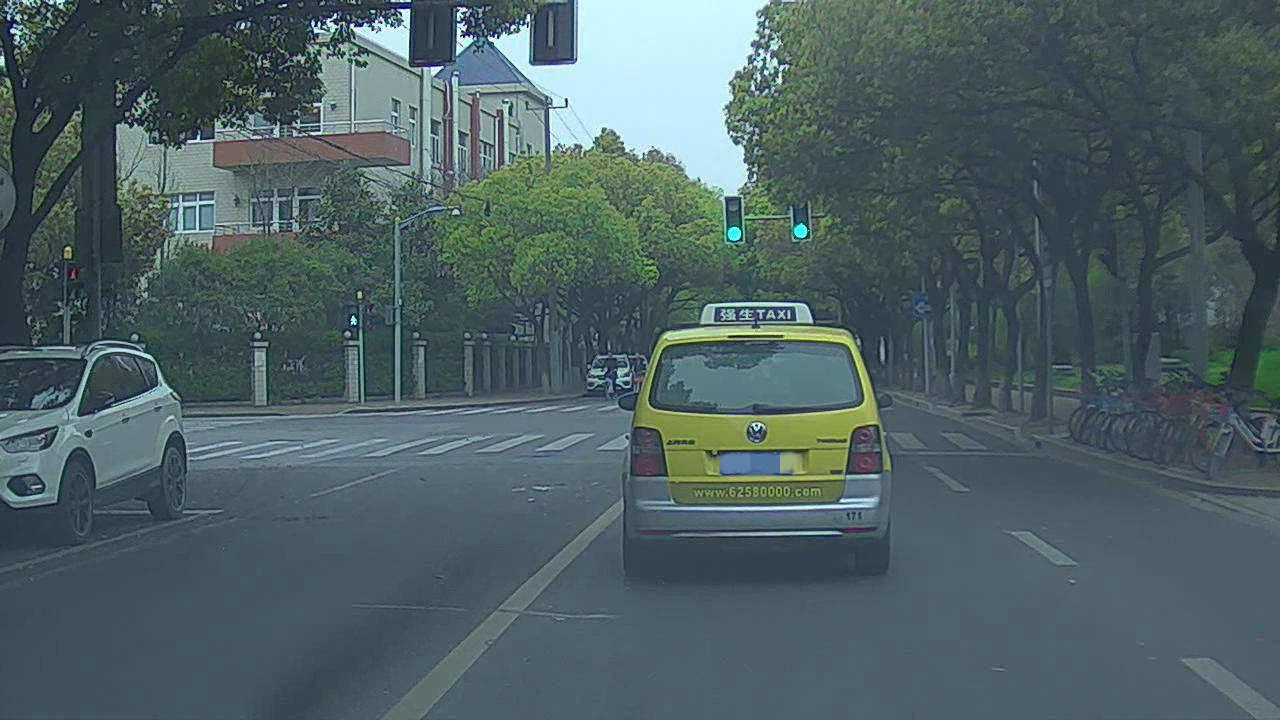traffic_light: (721, 195, 745, 241), (791, 198, 810, 242)
